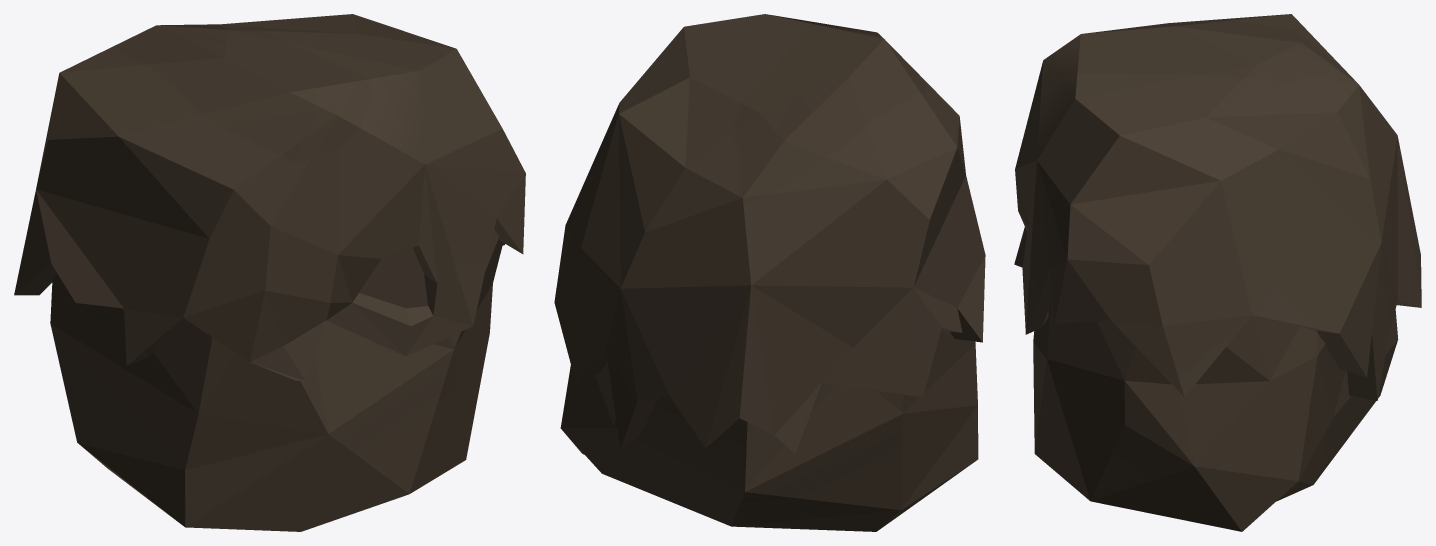
Rendered from bog_seat.gltf.
3 renders of one model, left to right at view 1: azimuth 30°, elevation 25°; view 2: azimuth 150°, elevation 25°; view 3: azimuth 270°, elevation 25°, orthographic. The views are drawn at different scales.
Visible parts, largest first — view 1: bog_seat; view 2: bog_seat; view 3: bog_seat.
Part boxes in pixels (x1,y1,x2,y2): bog_seat: [14, 14, 525, 531]; bog_seat: [554, 14, 985, 531]; bog_seat: [1014, 14, 1421, 531].
Bounding box in the file's own units: 0.6745 × 0.6412 × 0.5985.
Materials: 1 (1 with a texture image).
